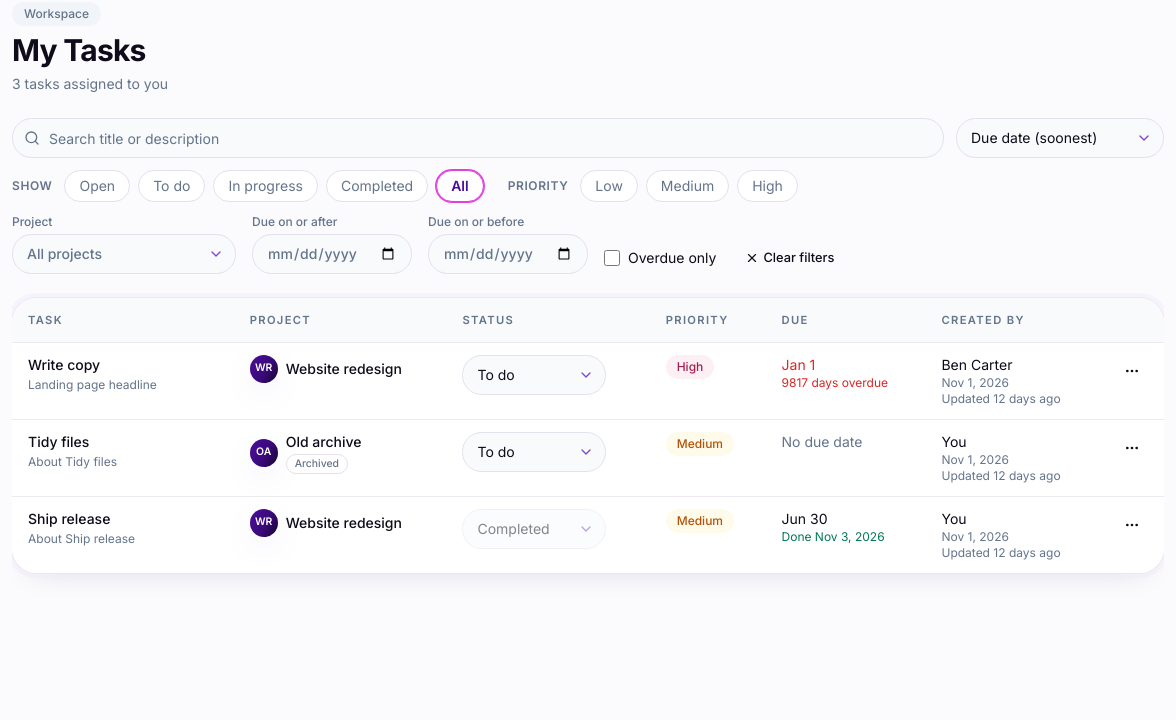
row actions follow what the backend allows › offers Edit and Delete only when the task lists update and delete
Expected: the heading "My Tasks" is shown, [12,32,168,68]
Expected: the table is shown, [12,298,1164,572]
Step 1. Click the button named "Actions for Tidy files" → (1132, 448), box [1116,432,1148,464]
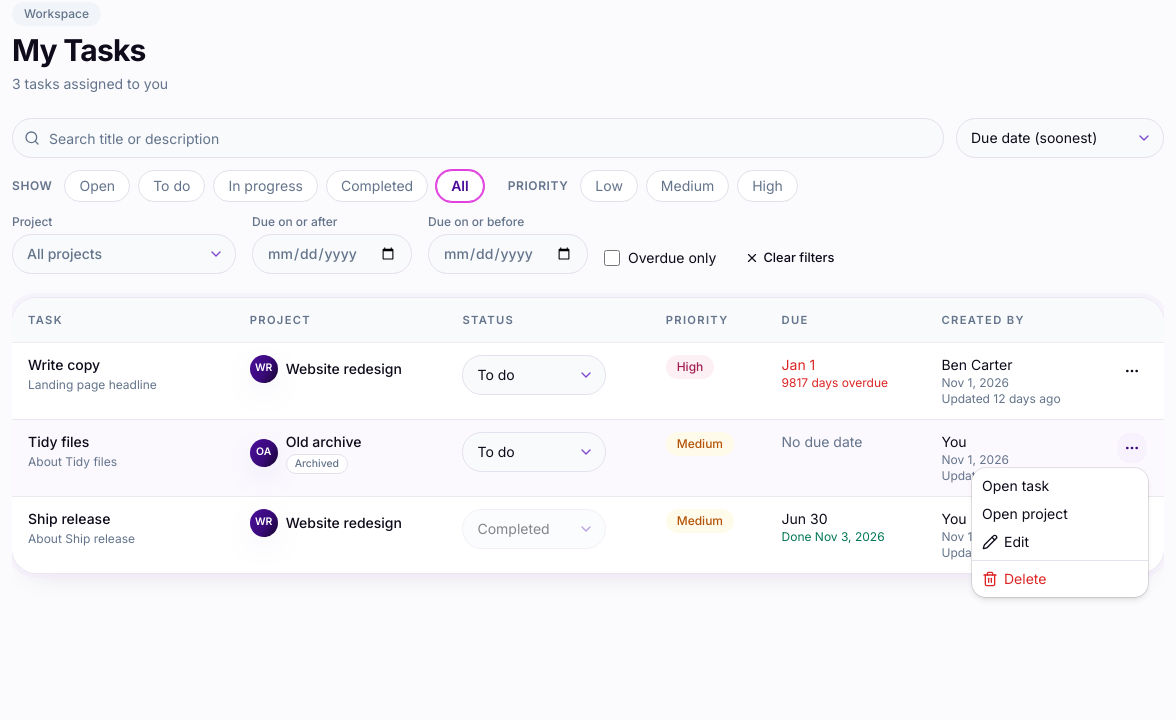
Expected: the menu item "Edit" is shown, [982,533,1029,550]
Expected: the menu item "Delete" is shown, [982,570,1046,587]
Step 2. Press Escape
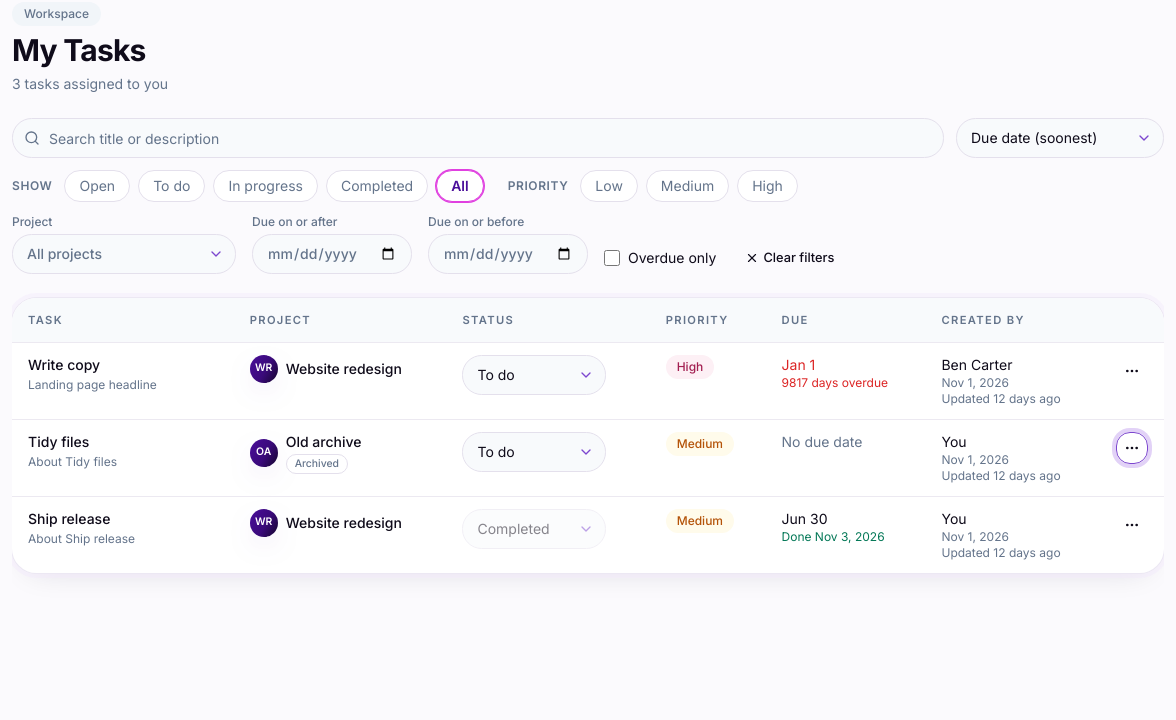
Step 3. Click the button named "Actions for Write copy" → (1132, 370), box [1116,354,1148,386]
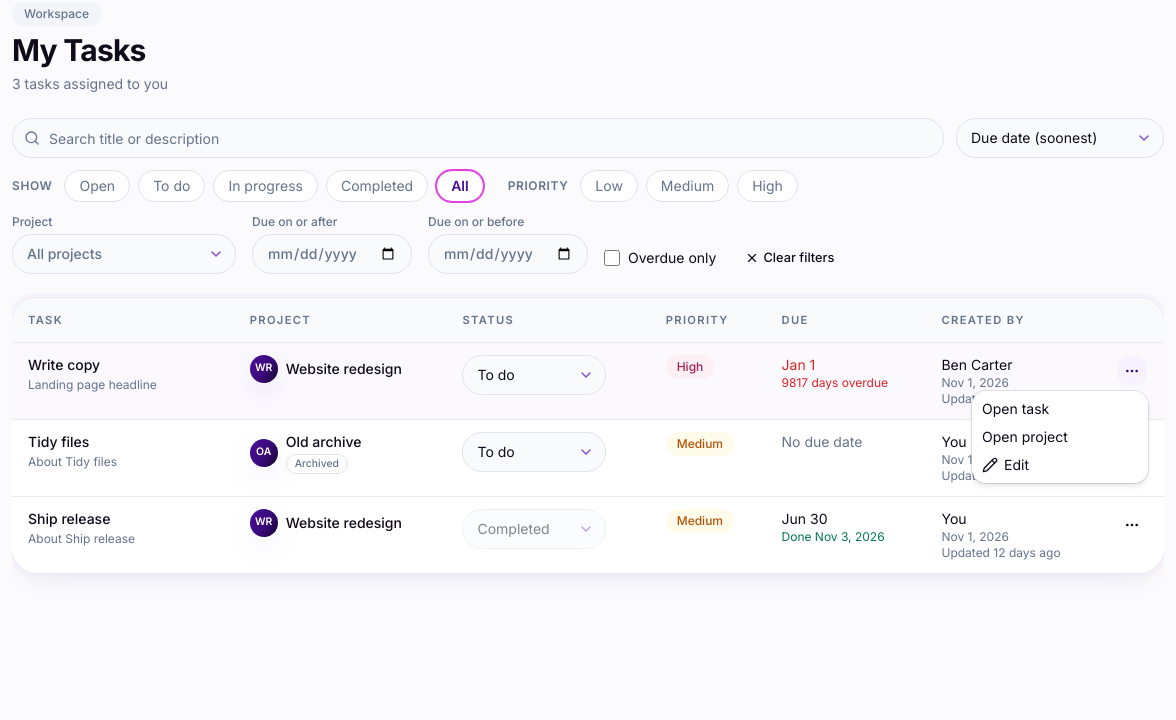
Expected: the menu item "Delete" is not shown
Expected: the menu item "Edit" is shown, [982,456,1029,473]
Step 4. Press Escape
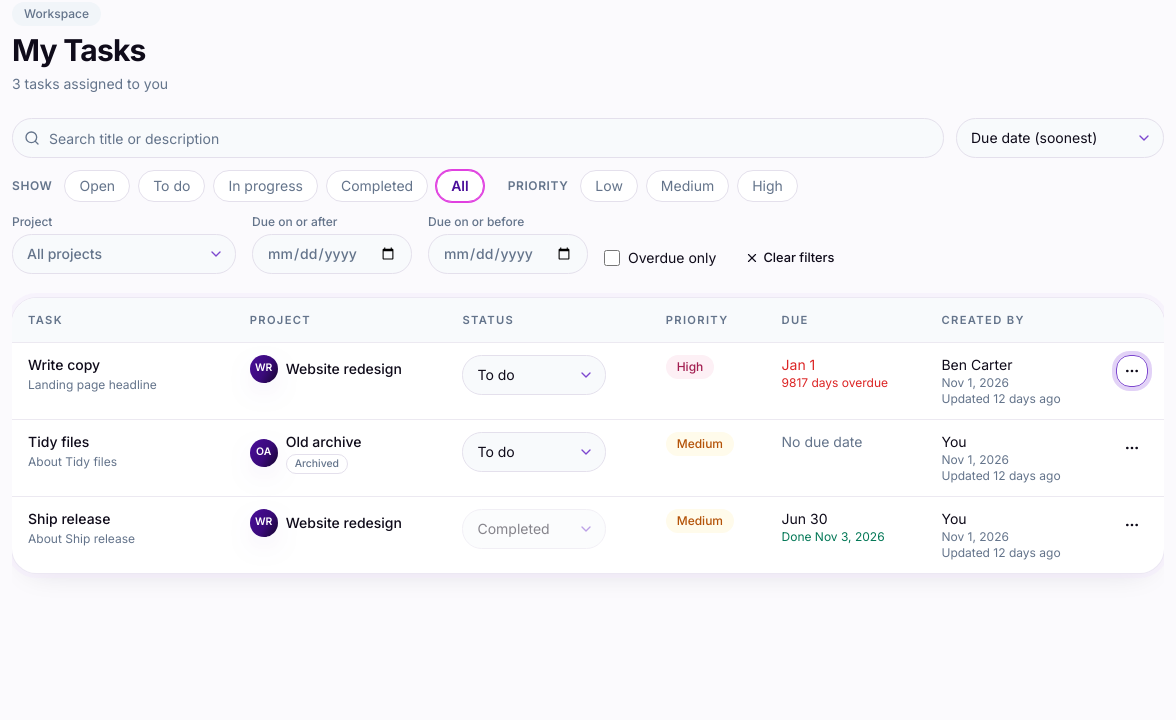
Step 5. Click the button named "Actions for Ship release" → (1132, 524), box [1116,508,1148,540]
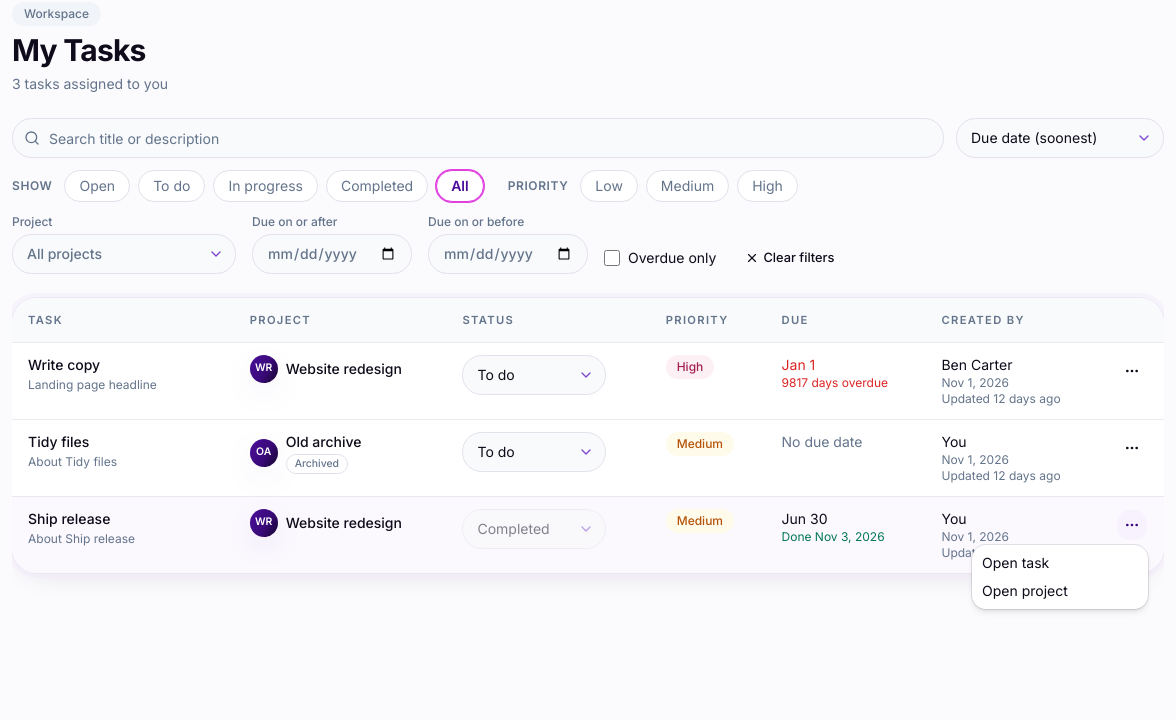
Expected: the menu item "Edit" is not shown
Expected: the menu item "Open task" is shown, [982,554,1049,571]
Expected: the menu item "Open project" is shown, [982,582,1068,599]
